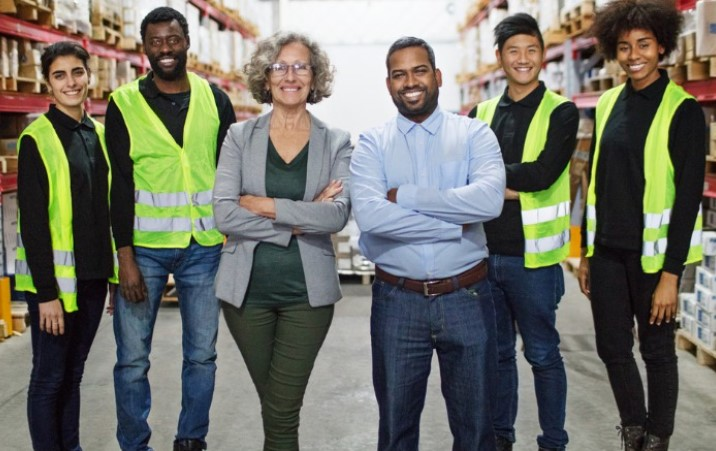worker: (109, 9, 230, 246)
